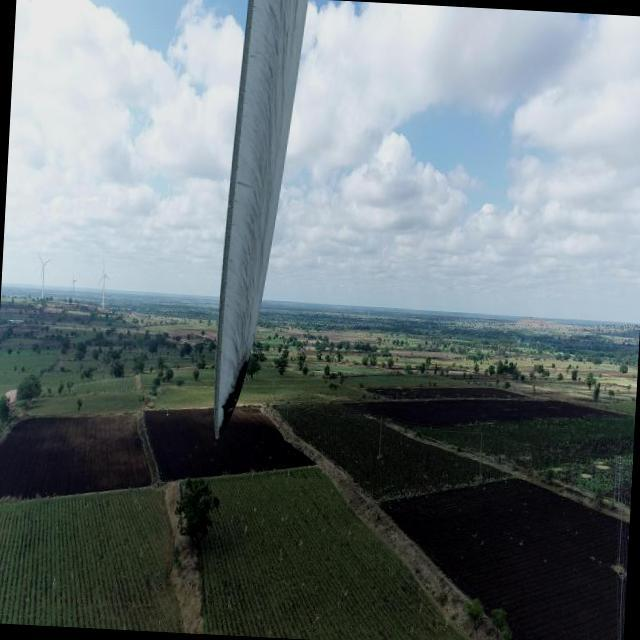Dirt: (215, 0, 311, 433)
Oil LEAKAGE: (217, 360, 249, 438)
Pin Hole: (215, 402, 228, 412)
